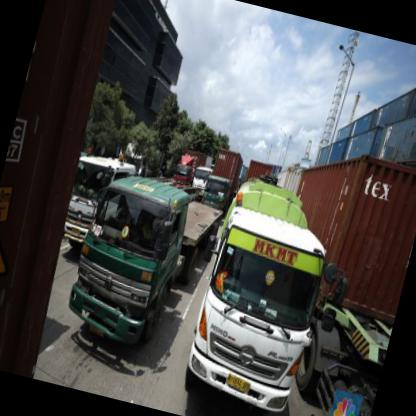truck: (174, 204, 340, 416), (61, 169, 200, 363)
